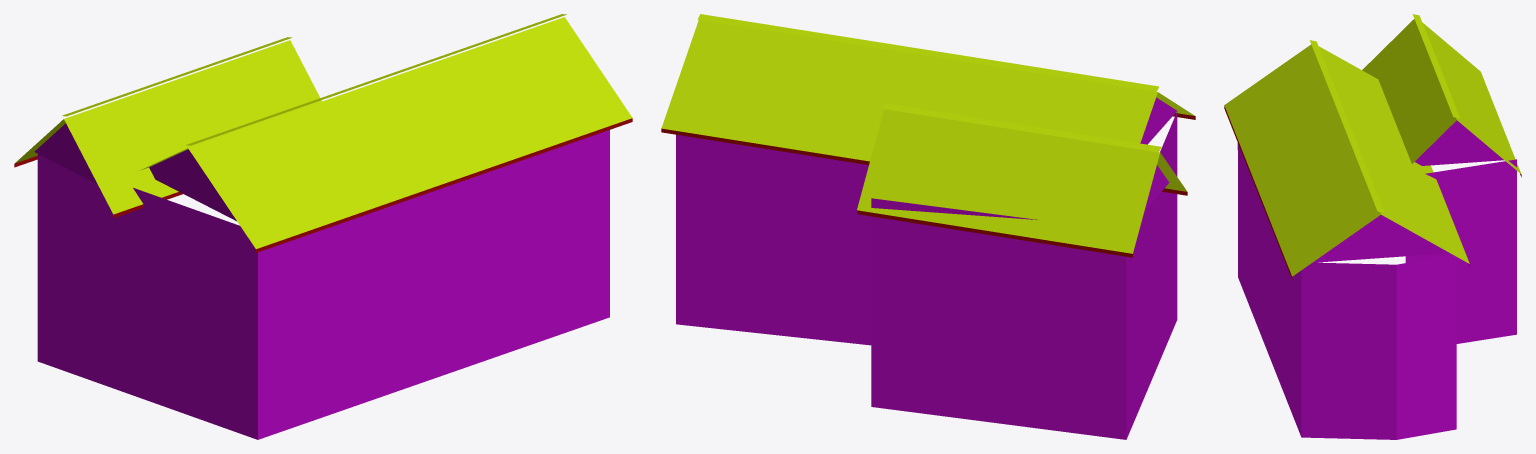
Rendered from bgj_279.glb.
3 renders of one model, left to right at view 1: azimuth 30°, elevation 25°; view 2: azimuth 150°, elevation 25°; view 3: azimuth 270°, elevation 25°, orthographic. The views are drawn at different scales.
Parts seen in each view (by area): view 1: bgj_279; view 2: bgj_279; view 3: bgj_279.
Part boxes in pixels (box(x1,y1,x2,y2)): bgj_279: box(14, 14, 632, 439); bgj_279: box(661, 14, 1195, 439); bgj_279: box(1224, 14, 1521, 439).
Size of the model in its own units: 16.59 by 8.42 by 10.
